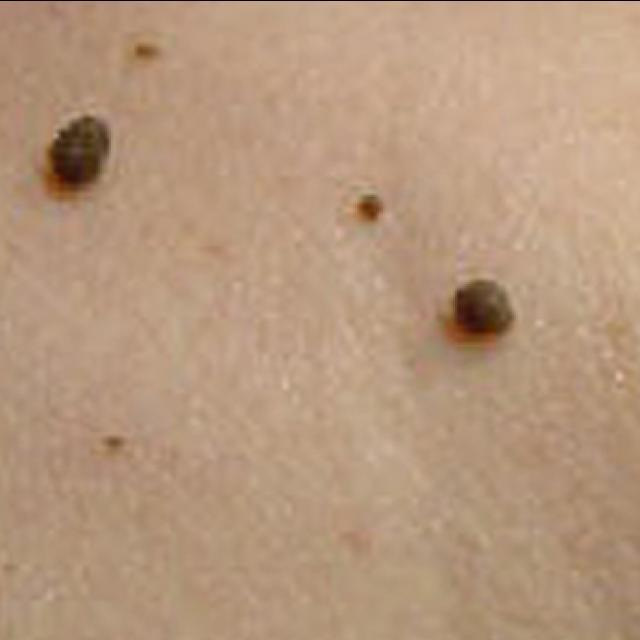wart: (41, 104, 111, 200), (438, 270, 511, 346)
